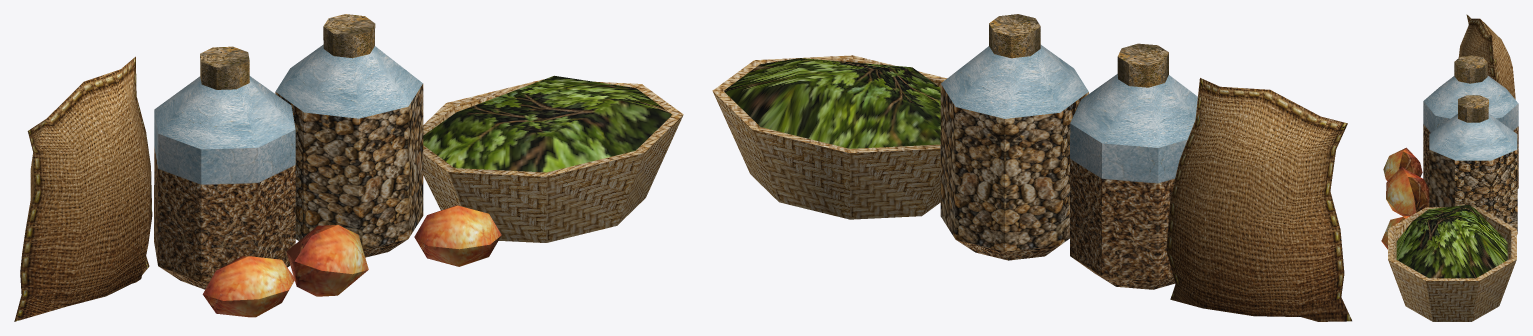
File: mm9_deco_shelfitem08hbottle.glb
The picture shows the model from 3 angles, left to right: view 1: azimuth 30°, elevation 25°; view 2: azimuth 150°, elevation 25°; view 3: azimuth 270°, elevation 25°; orthographic projection. The views are drawn at different scales.
Visible parts, largest first — view 1: Shelfitem08hbottle; view 2: Shelfitem08hbottle; view 3: Shelfitem08hbottle.
Part boxes in pixels (x1,y1,x2,y2): Shelfitem08hbottle: (14,14,683,321); Shelfitem08hbottle: (712,14,1351,321); Shelfitem08hbottle: (1381,14,1518,321).
Size of the model in its own units: 1.12 by 0.3744 by 0.3293.
2 materials, 2 textured.
